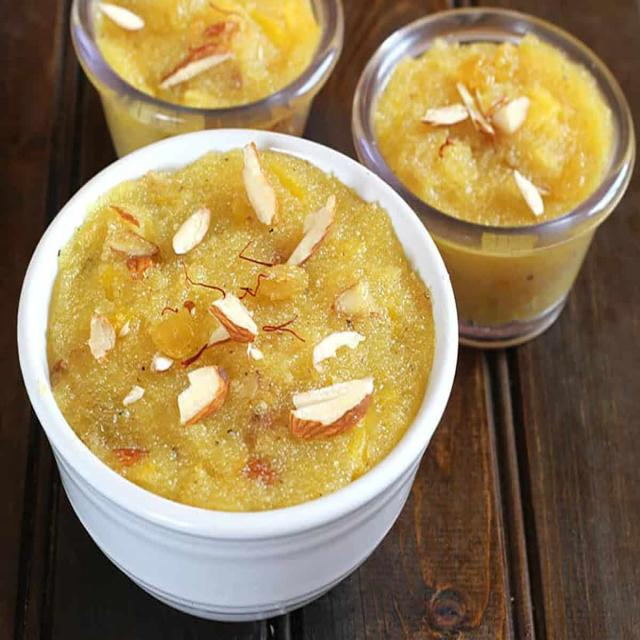kesari bath: (39, 134, 445, 529), (374, 14, 626, 240), (62, 0, 342, 115)
